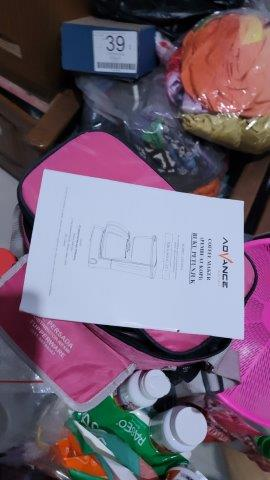kertas: (16, 168, 247, 340)
